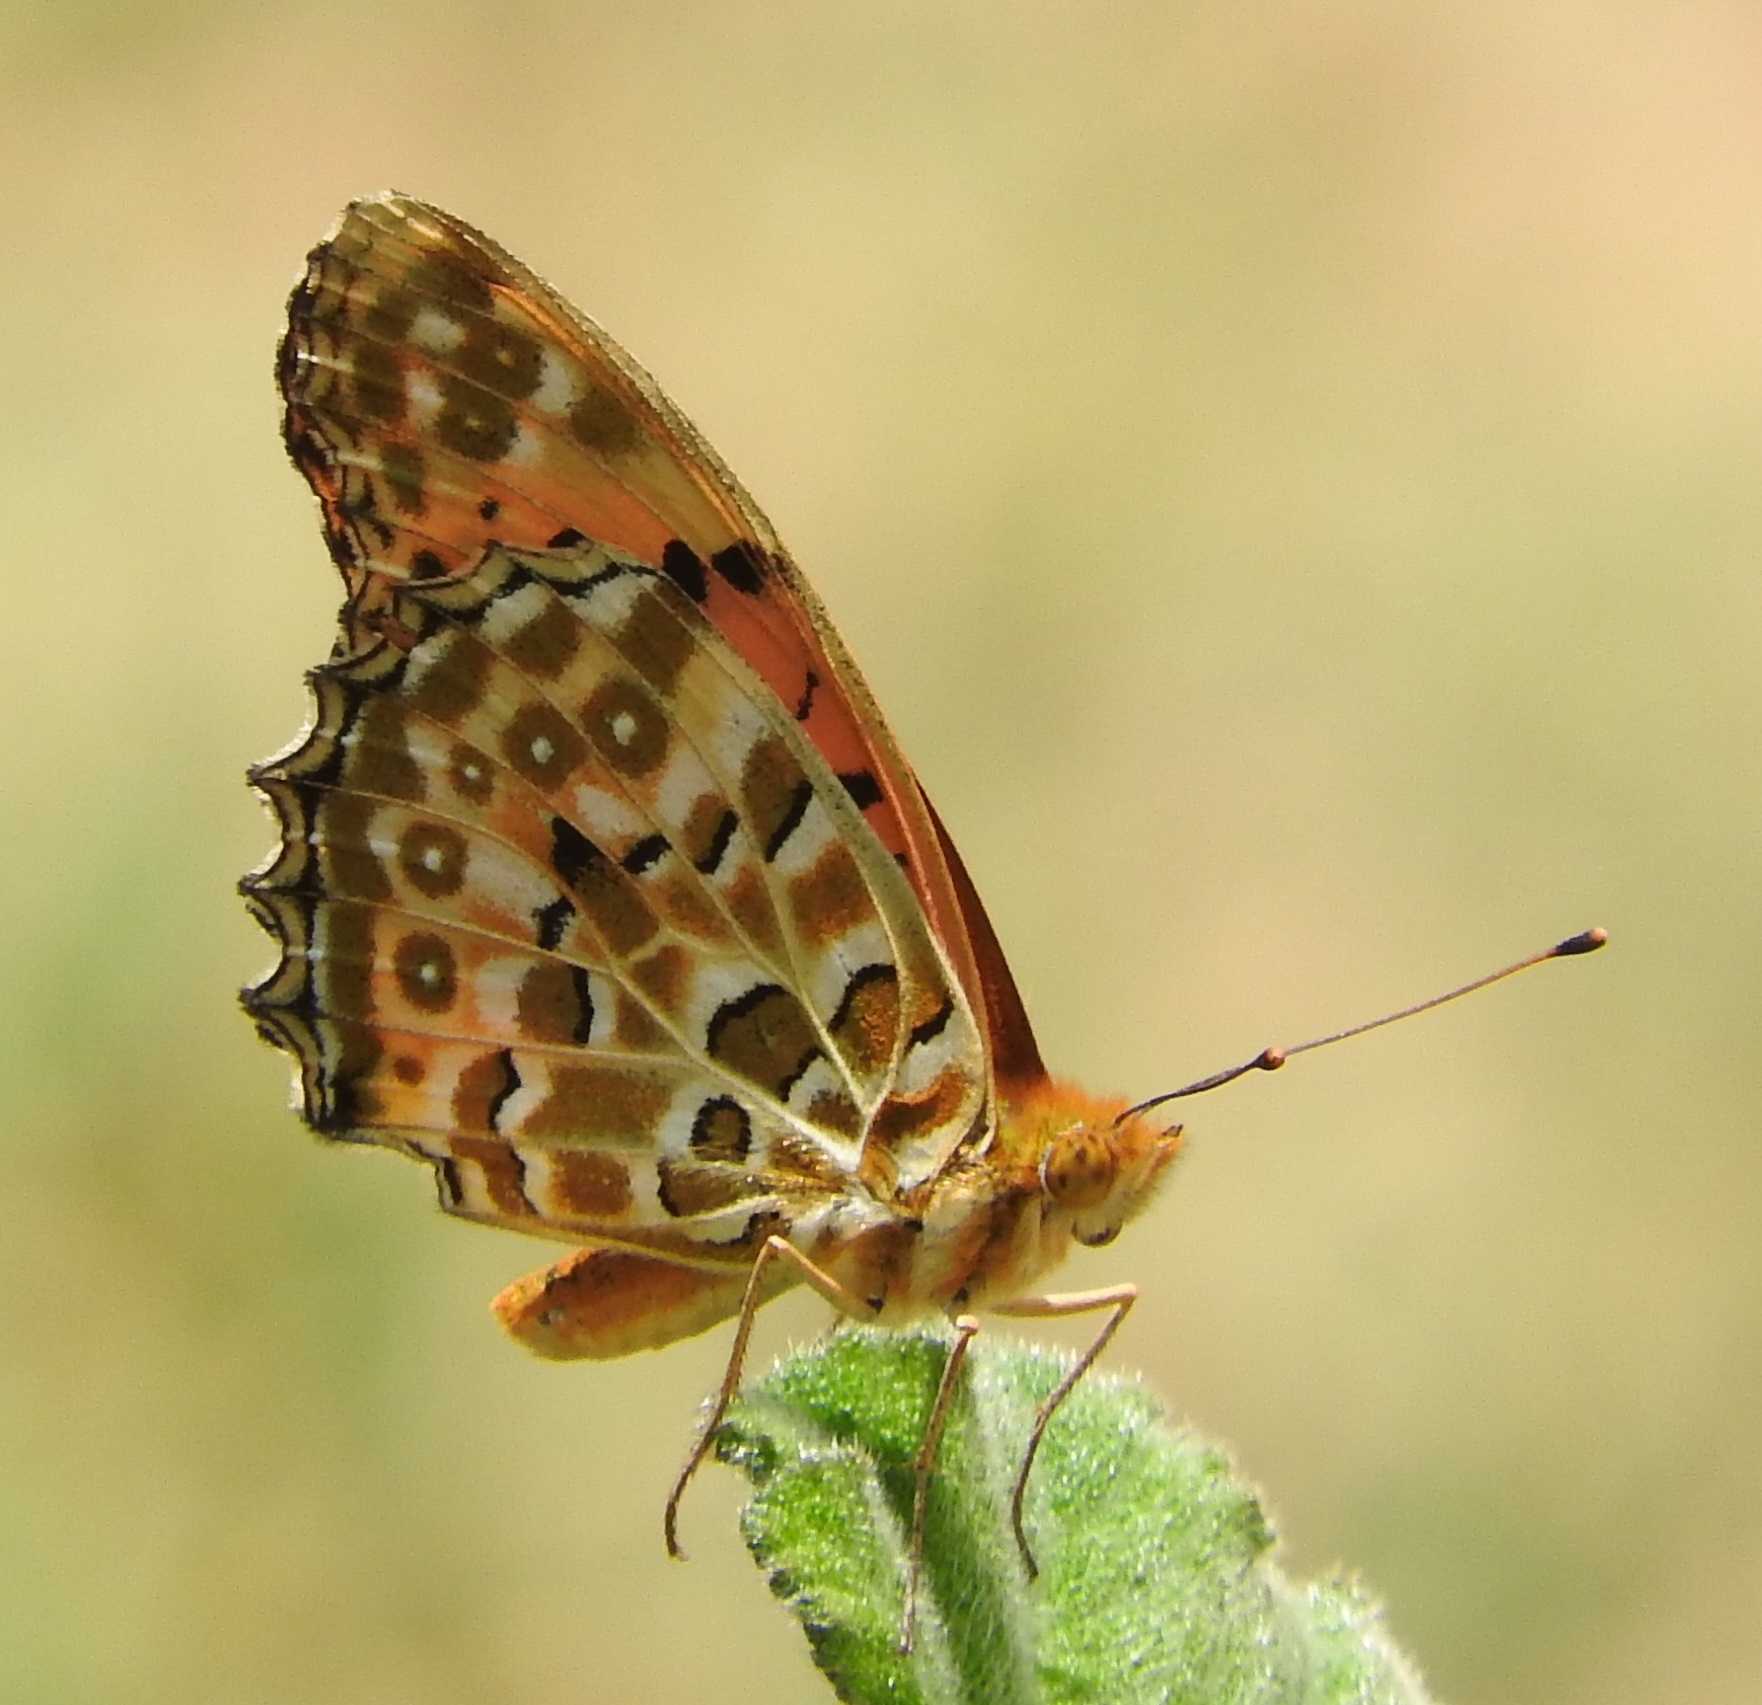Argyreus hyperbius: (233, 176, 1625, 1647)
butterfly: (234, 178, 1627, 1648)
